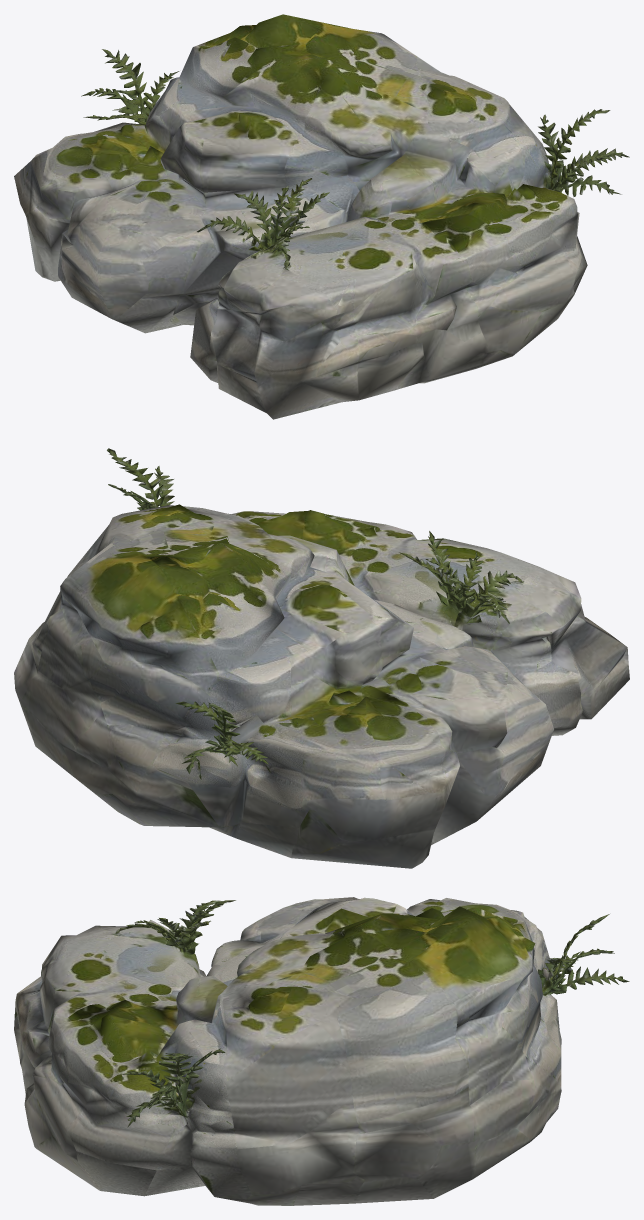
Rendered from pedra3.glb.
3 renders of one model, top to bottom at view 1: azimuth 30°, elevation 25°; view 2: azimuth 150°, elevation 25°; view 3: azimuth 270°, elevation 25°, orthographic. The views are drawn at different scales.
Parts seen in each view (by area): view 1: pedra3; view 2: pedra3; view 3: pedra3.
Boxes of the visible parts, x1,y1,x2,y2 form: pedra3: (14,14,629,419); pedra3: (14,448,629,868); pedra3: (14,897,629,1205).
Bounding box in the file's own units: 1.79 × 0.7566 × 1.9.
Materials: 1 (1 with a texture image).
